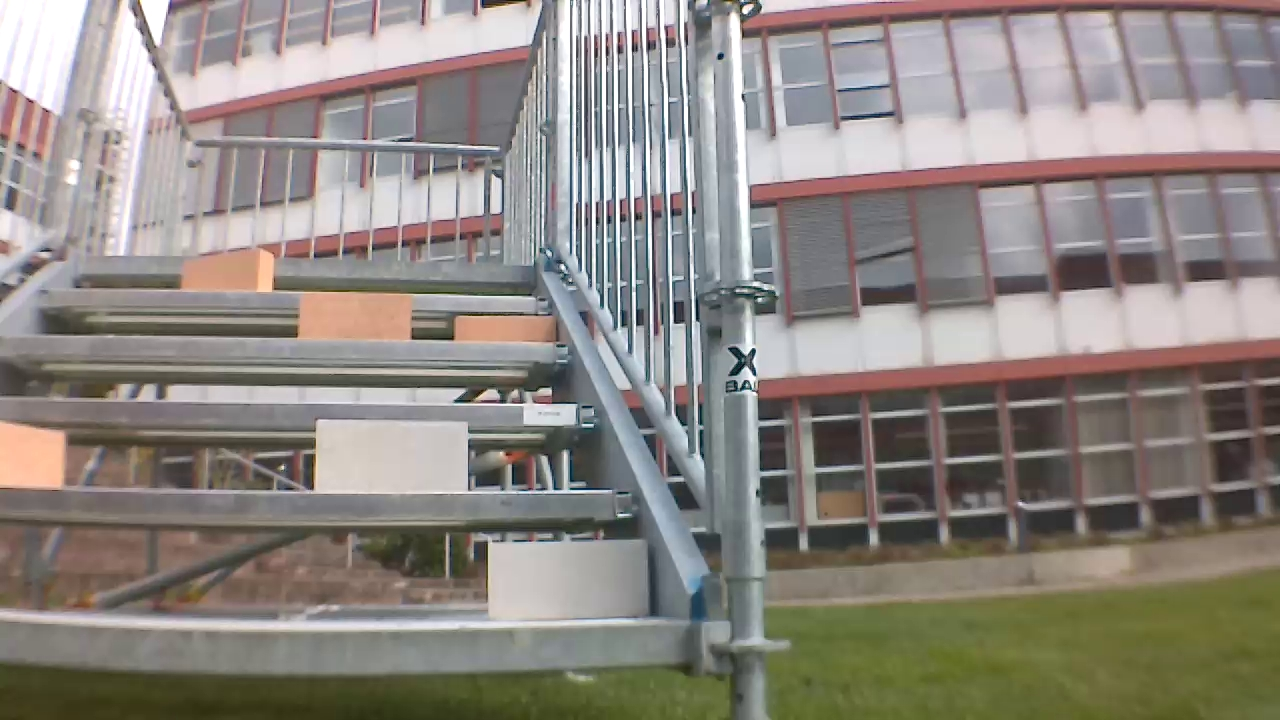brick: (487, 539, 647, 619), (317, 422, 466, 494), (301, 294, 408, 339), (0, 424, 63, 486), (182, 249, 272, 291), (455, 317, 553, 340)
edge: (3, 619, 692, 674), (0, 491, 639, 521), (0, 399, 599, 425), (3, 336, 572, 363), (39, 286, 552, 313), (82, 256, 532, 282)
stairs: (4, 4, 780, 716)
steps: (5, 246, 699, 679)
